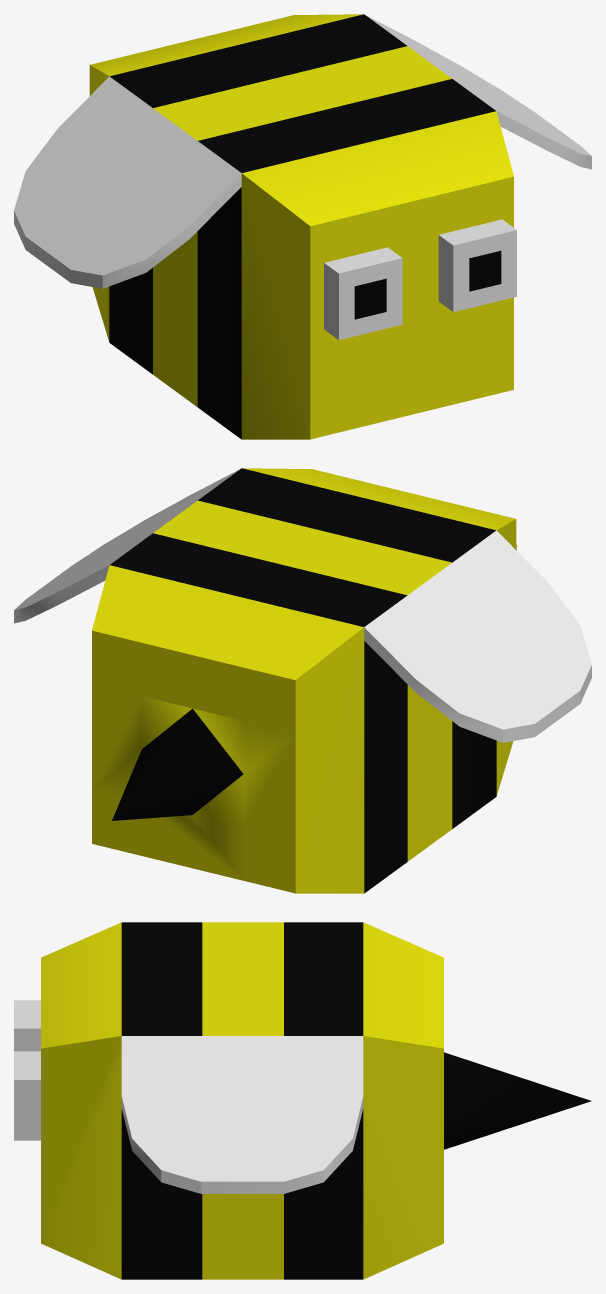
The model's file is The Bee 3.0.fbx.
3 renders of one model, top to bottom at view 1: azimuth 30°, elevation 25°; view 2: azimuth 150°, elevation 25°; view 3: azimuth 270°, elevation 25°, orthographic. The views are drawn at different scales.
Parts seen in each view (by area): view 1: pCube2; view 2: pCube2; view 3: pCube2.
Boxes of the visible parts, box(x1,y1,x2,y2) form: pCube2: box(14, 14, 591, 439); pCube2: box(14, 468, 591, 893); pCube2: box(14, 922, 591, 1279).
Size of the model in its own units: 2 by 1 by 2.15.
